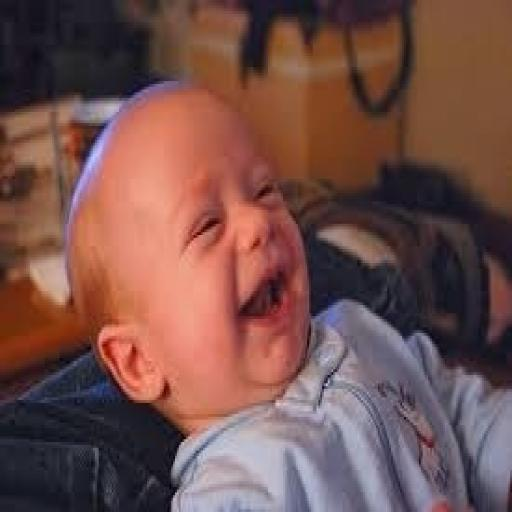laughing: (52, 70, 507, 506)
